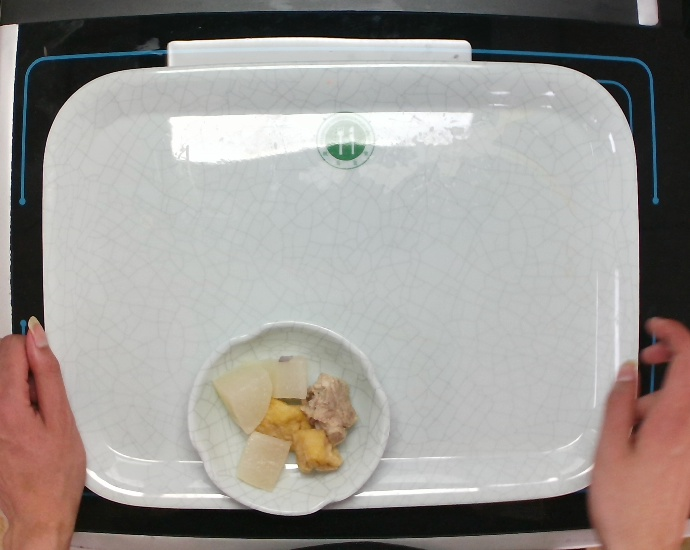JYsf-Ao_Yuan_Wan: (181, 315, 401, 517)
